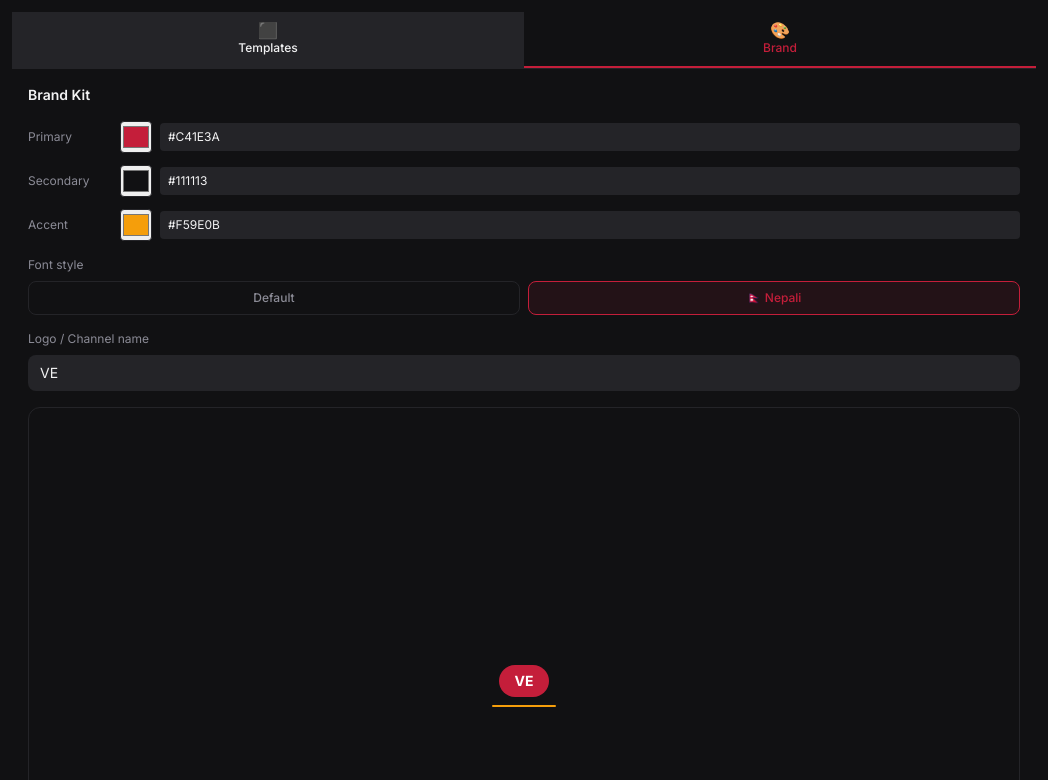
Test: VisualLibraryPanel — BrandKitTab › logo text input updates brandKit.logoText
This screenshot has width=1048, height=780.
Type "MyBrand" into the field with test id "brand-logo-text" at (524, 373), box [28,355,1020,391]
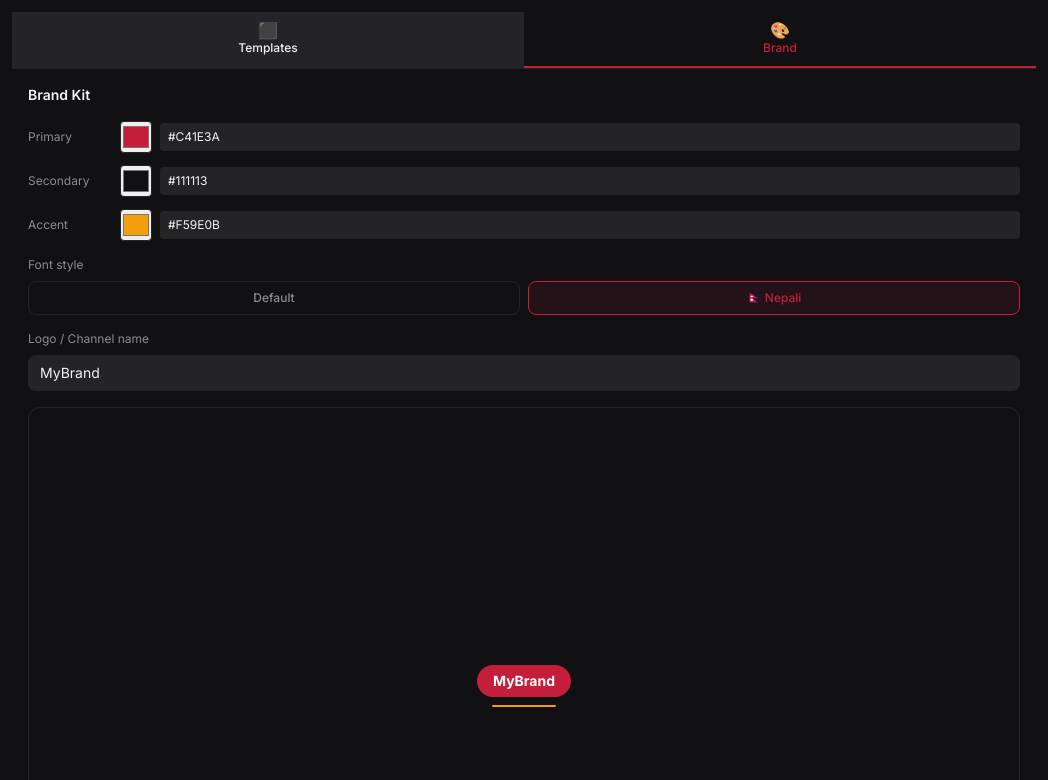
Expected: the text "MyBrand" is shown, [477,665,571,697]
